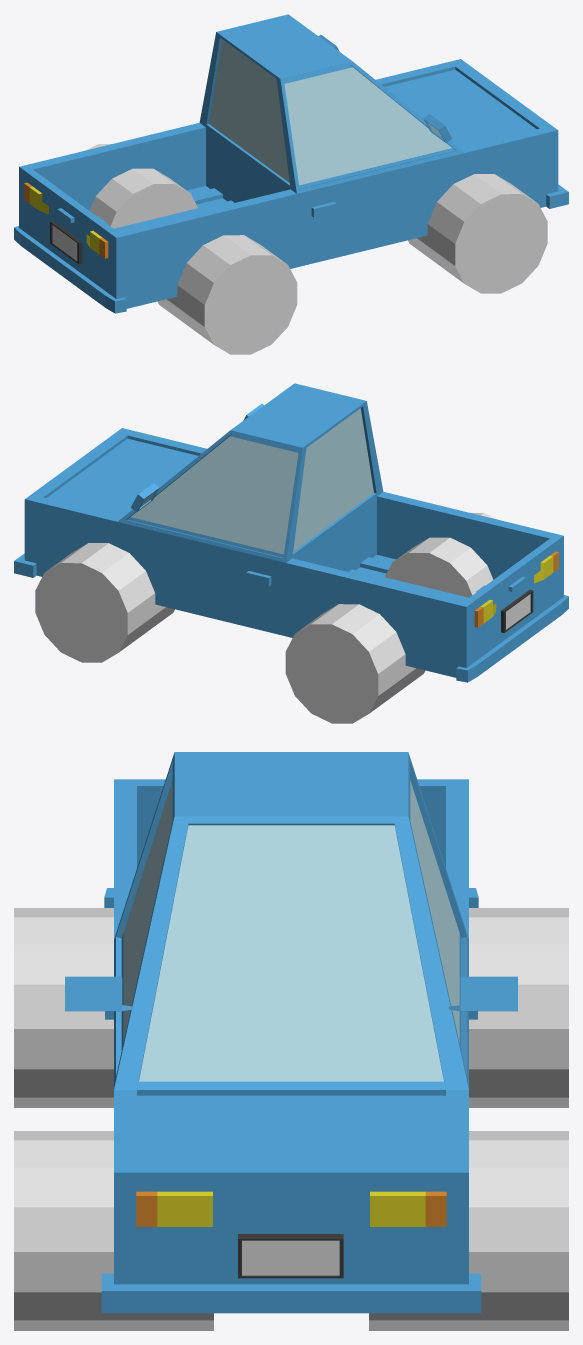
The model's file is pickup_azul.fbx.
3 renders of one model, top to bottom at view 1: azimuth 30°, elevation 25°; view 2: azimuth 150°, elevation 25°; view 3: azimuth 270°, elevation 25°, orthographic. The views are drawn at different scales.
Visible parts, largest first — view 1: Cube, Cylinder.001, Cylinder, Cube.003, Cube.004; view 2: Cube, Cylinder.001, Cylinder, Cube.003, Cube.004; view 3: Cube, Cylinder, Cylinder.001, Cube.001, Cube.002, Cube.004.
Part boxes in pixels (left/top/right/bottom): Cube: left=14, top=14, right=568, bottom=313; Cylinder.001: left=86, top=144, right=297, bottom=354; Cylinder: left=408, top=174, right=547, bottom=293; Cube.003: left=50, top=221, right=82, bottom=264; Cube.004: left=318, top=34, right=452, bottom=143; Cube: left=14, top=383, right=568, bottom=682; Cylinder.001: left=285, top=513, right=496, bottom=723; Cylinder: left=35, top=543, right=174, bottom=662; Cube.003: left=501, top=590, right=533, bottom=632; Cube.004: left=130, top=403, right=264, bottom=512; Cube: left=101, top=752, right=481, bottom=1313; Cylinder: left=14, top=1131, right=568, bottom=1330; Cylinder.001: left=14, top=908, right=568, bottom=1107; Cube.001: left=136, top=1191, right=446, bottom=1226; Cube.002: left=238, top=1234, right=343, bottom=1278; Cube.004: left=65, top=976, right=517, bottom=1011.
Size of the model in its own units: 895 by 425 by 520.
